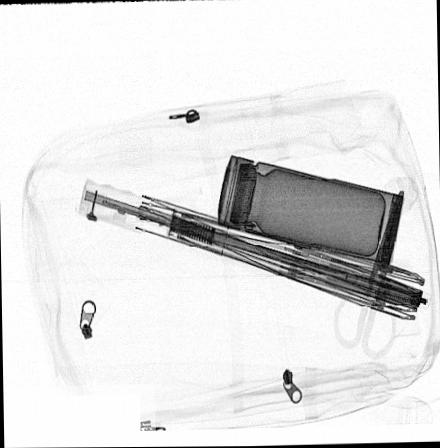Scissors: (333, 191, 403, 361)
